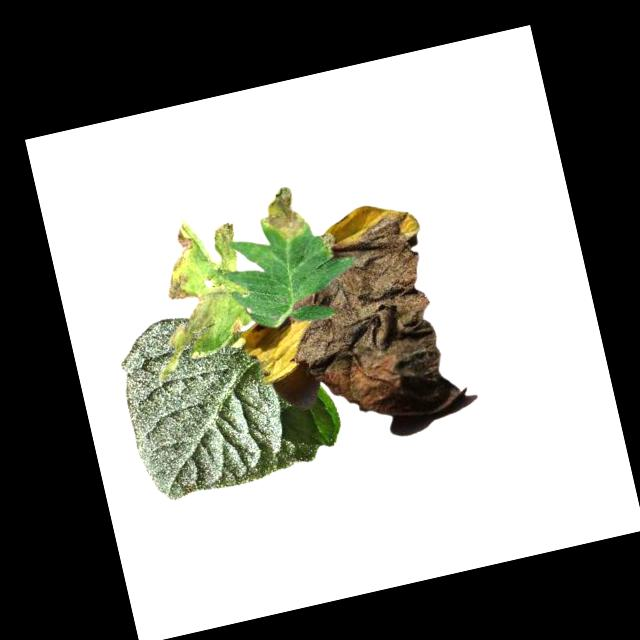Late_blight: (262, 193, 456, 423), (147, 210, 259, 354), (236, 305, 319, 385), (253, 184, 310, 247)
